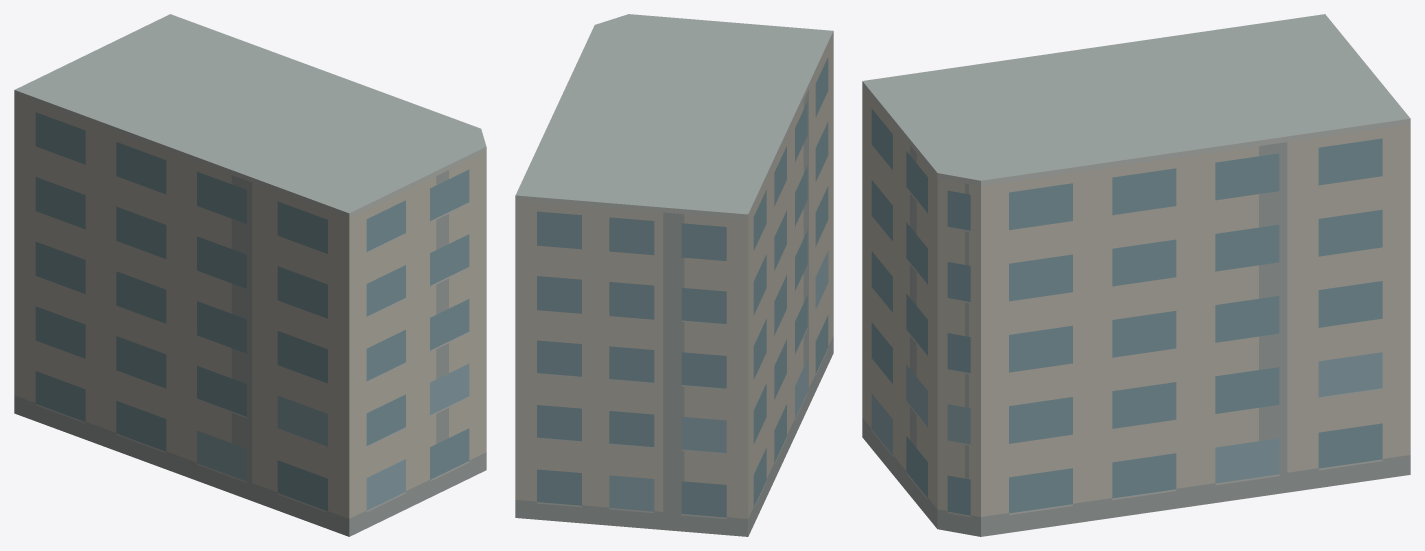
File: survey-upis-32490444.glb
3 renders of one model, left to right at view 1: azimuth 30°, elevation 25°; view 2: azimuth 150°, elevation 25°; view 3: azimuth 270°, elevation 25°, orthographic. The views are drawn at different scales.
Visible parts, largest first — view 1: survey-upis-32490444.tmp; view 2: survey-upis-32490444.tmp; view 3: survey-upis-32490444.tmp.
Part boxes in pixels (x1,y1,x2,y2): survey-upis-32490444.tmp: (14, 14, 486, 536); survey-upis-32490444.tmp: (515, 14, 833, 536); survey-upis-32490444.tmp: (862, 14, 1410, 536).
Bounding box in the file's own units: 15.72 × 15.65 × 21.85.
